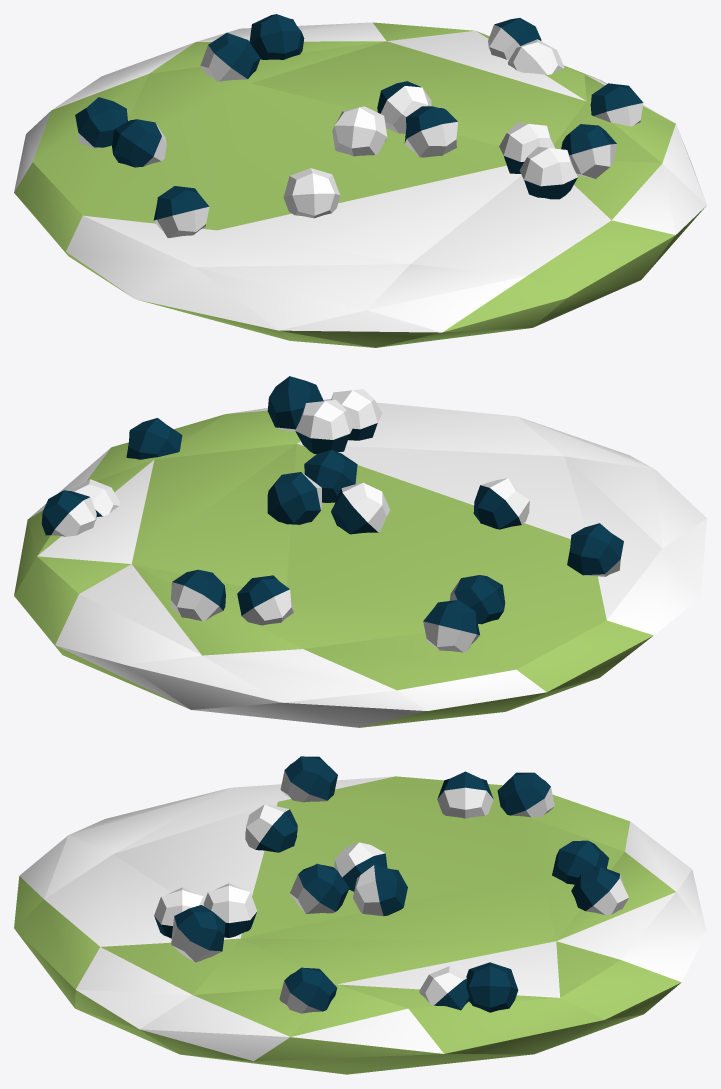
File: crowberry_2.fbx
3 renders of one model, top to bottom at view 1: azimuth 30°, elevation 25°; view 2: azimuth 150°, elevation 25°; view 3: azimuth 270°, elevation 25°, orthographic. The views are drawn at different scales.
Parts seen in each view (by area): view 1: Apple_Snow_01; view 2: Apple_Snow_01; view 3: Apple_Snow_01.
Part boxes in pixels (bbox=[...]): Apple_Snow_01: bbox=[14, 14, 706, 347]; Apple_Snow_01: bbox=[14, 376, 706, 727]; Apple_Snow_01: bbox=[14, 756, 706, 1074].
Size of the model in its own units: 1.74 by 0.429 by 1.84.
Materials: 1 (1 with a texture image).
